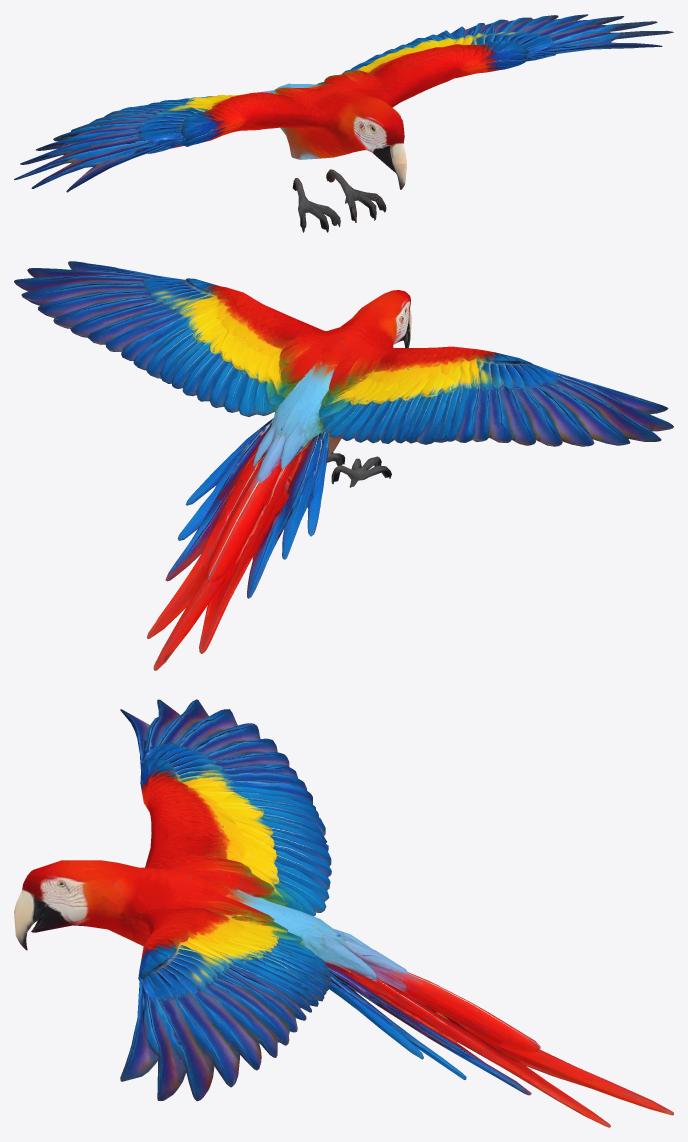
Rendered from SM_Macaw.glb.
The picture shows the model from 3 angles, top to bottom: view 1: azimuth 30°, elevation 25°; view 2: azimuth 150°, elevation 25°; view 3: azimuth 270°, elevation 25°; orthographic projection. The views are drawn at different scales.
Parts seen in each view (by area): view 1: Mesh_0; view 2: Mesh_0; view 3: Mesh_0.
Part boxes in pixels (x1=…): Mesh_0: x1=14, y1=14, x2=673, y2=232; Mesh_0: x1=14, y1=261, x2=673, y2=670; Mesh_0: x1=14, y1=699, x2=673, y2=1127.
Size of the model in its own units: 1.9 by 0.5708 by 1.32.
1 material, 1 textured.
